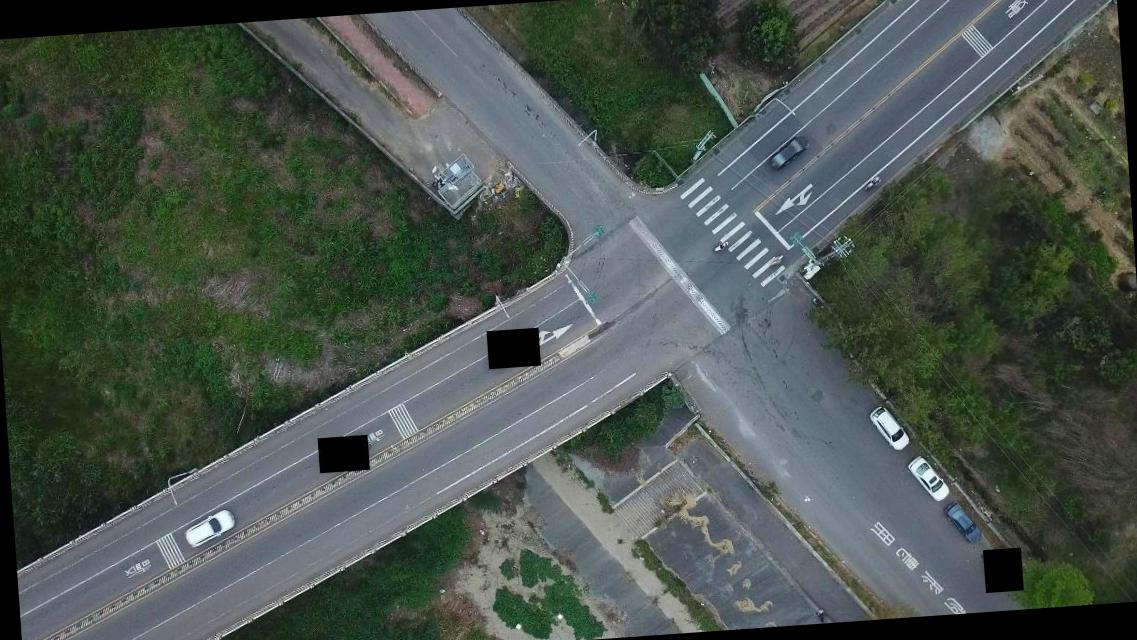vehicle: (180, 508, 234, 550), (866, 404, 912, 452), (904, 455, 950, 503), (942, 502, 982, 544), (768, 134, 811, 170)
